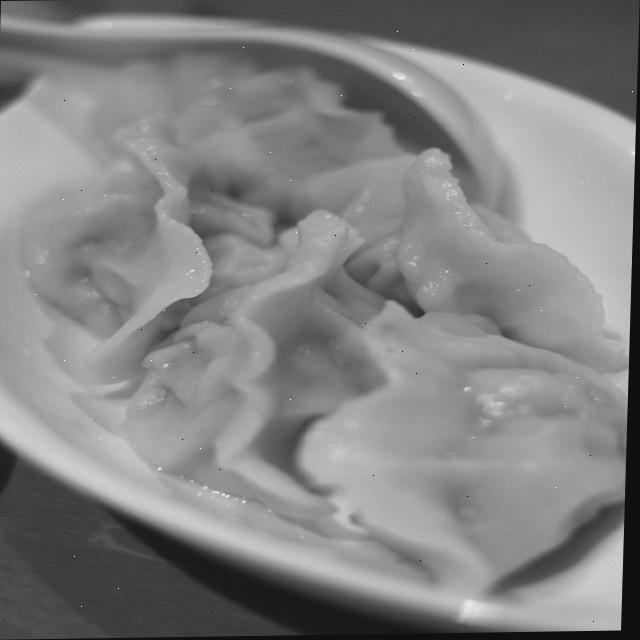带馅早点: (0, 16, 639, 631)
